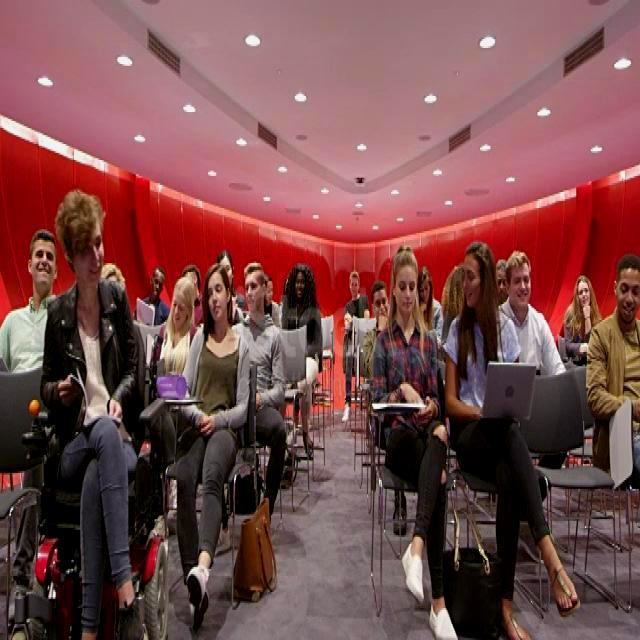Looking away: (461, 247, 486, 310), (206, 264, 228, 326), (614, 265, 640, 317), (395, 258, 417, 317), (244, 264, 264, 314), (172, 288, 190, 330), (149, 268, 164, 302), (420, 270, 431, 306)
Looking forward: (70, 214, 104, 284), (28, 233, 56, 287), (508, 256, 532, 312), (576, 274, 592, 310), (372, 286, 388, 322), (294, 268, 307, 300), (350, 272, 360, 296)
